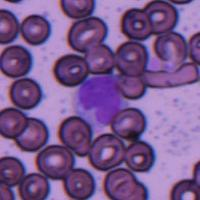M: (72, 74, 124, 125)
